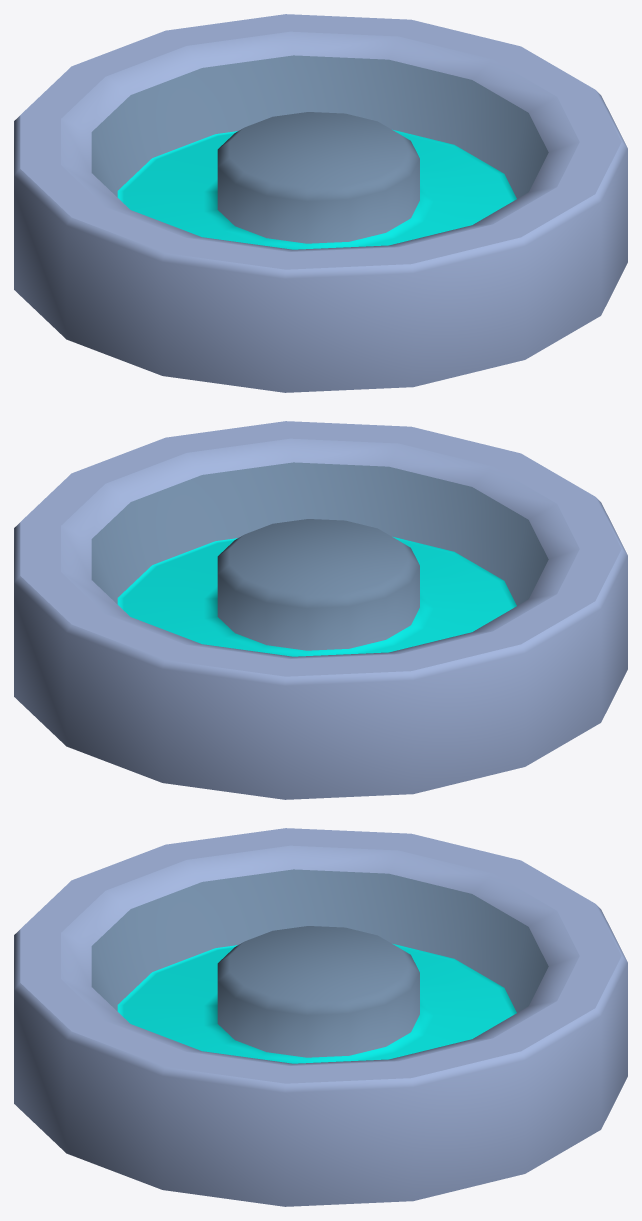
The model's file is socket.fbx.
3 views of the same model, one above another, from view 1: azimuth 30°, elevation 25°; view 2: azimuth 150°, elevation 25°; view 3: azimuth 270°, elevation 25° (orthographic).
Visible parts, largest first — view 1: socket; view 2: socket; view 3: socket.
Part boxes in pixels (left/top/right/bottom): socket: left=14, top=14, right=627, bottom=392; socket: left=14, top=421, right=627, bottom=799; socket: left=14, top=828, right=627, bottom=1206.
Size of the model in its own units: 121 by 26.14 by 121.
